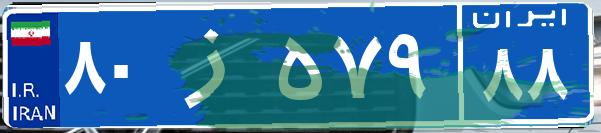0: (110, 28, 158, 105)
5: (273, 28, 330, 110)
7: (330, 28, 385, 110)
8: (57, 26, 110, 107), (475, 38, 525, 113), (525, 38, 570, 115)
9: (385, 28, 445, 110)
ز: (158, 15, 273, 115)
